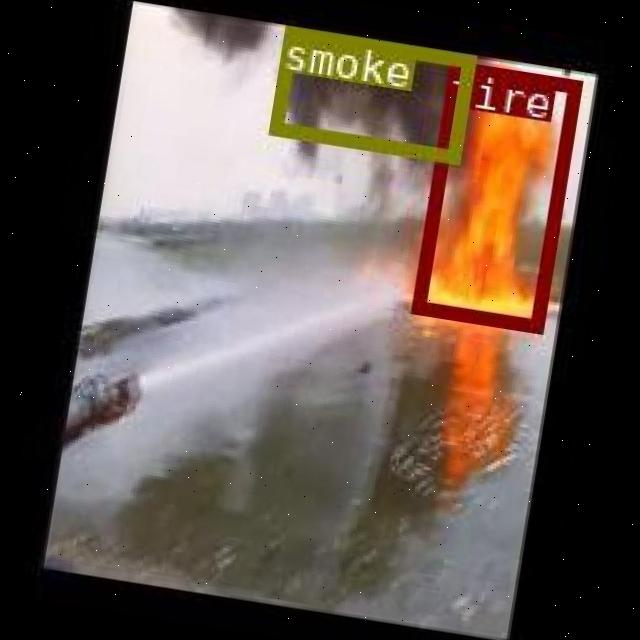fire: (410, 57, 579, 330)
smoke: (268, 25, 476, 163)
